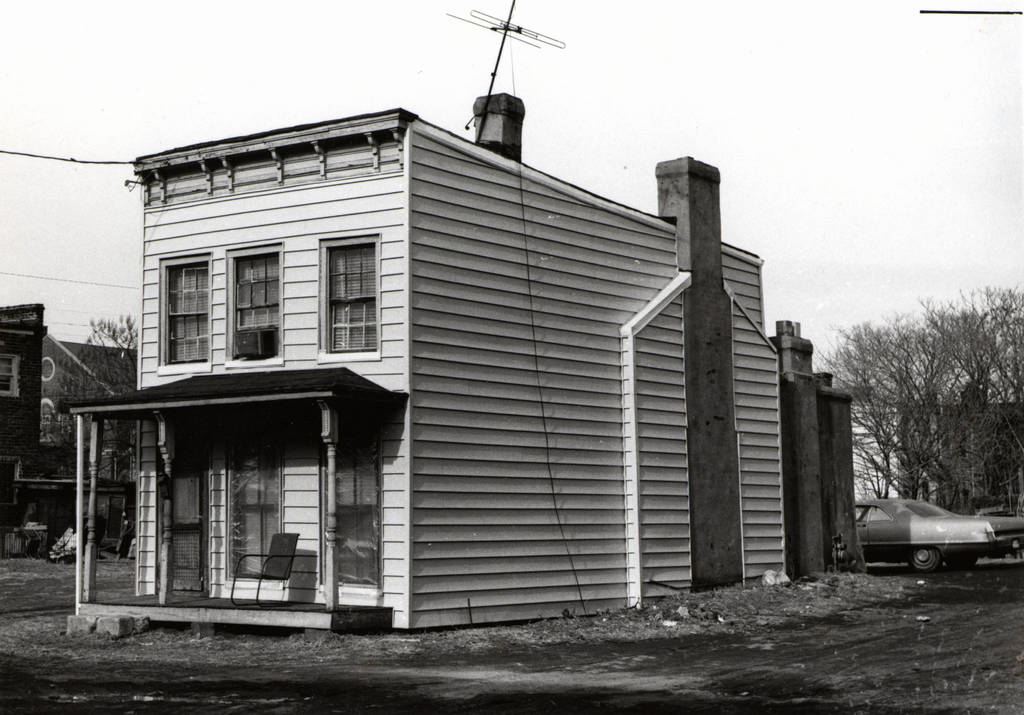door: (162, 471, 203, 585)
